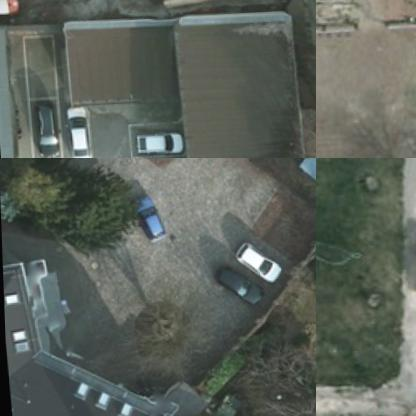car: (210, 264, 260, 309), (234, 242, 282, 283), (126, 193, 163, 242), (29, 98, 59, 157), (60, 105, 92, 157), (132, 133, 181, 157)
